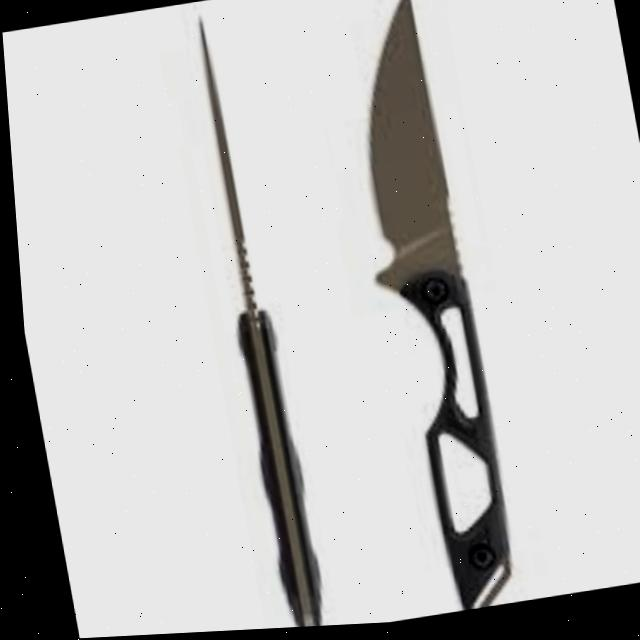Knife: (324, 0, 518, 621), (178, 5, 321, 633)
